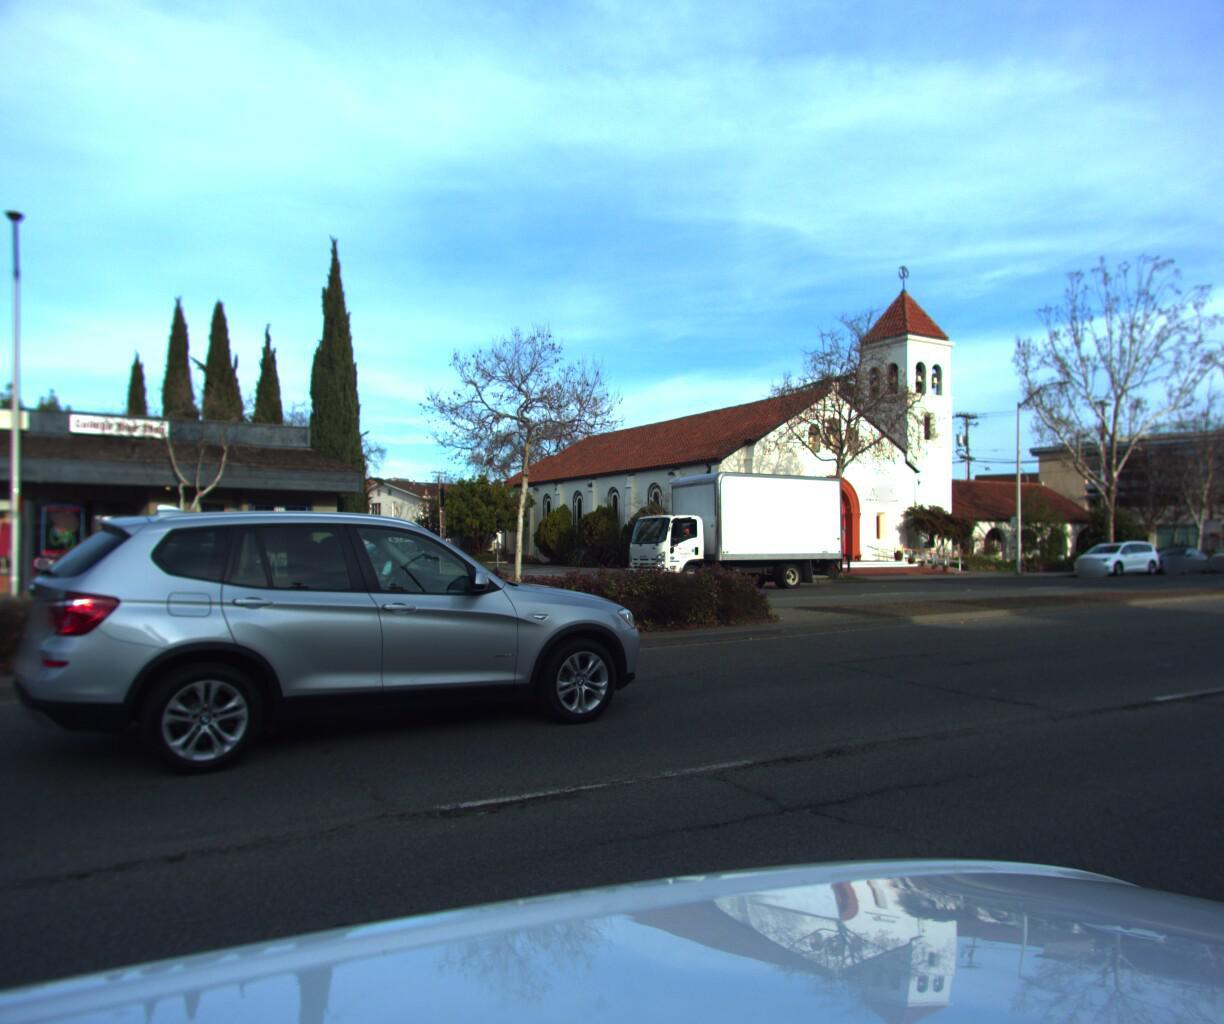car: (29, 498, 657, 812), (22, 529, 278, 615), (1063, 537, 1162, 575), (1133, 543, 1212, 573), (1197, 537, 1224, 570)
truck: (616, 469, 853, 597)
